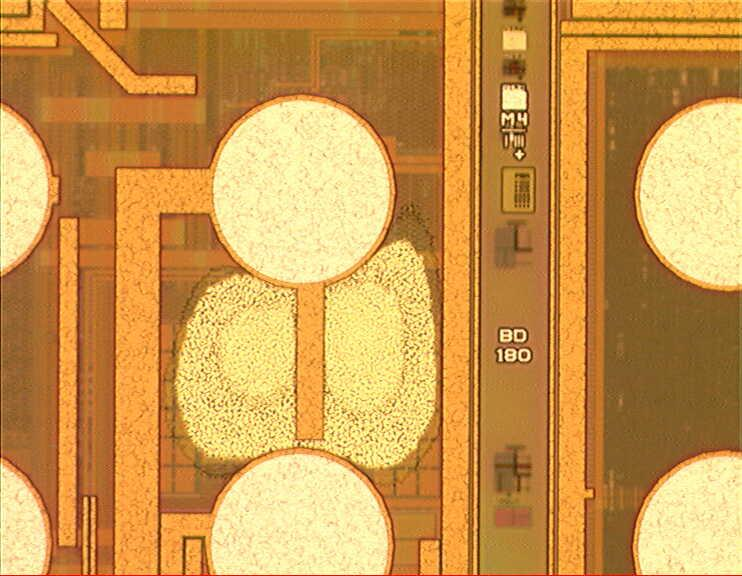BLOCK ETCH: (162, 205, 446, 490)
